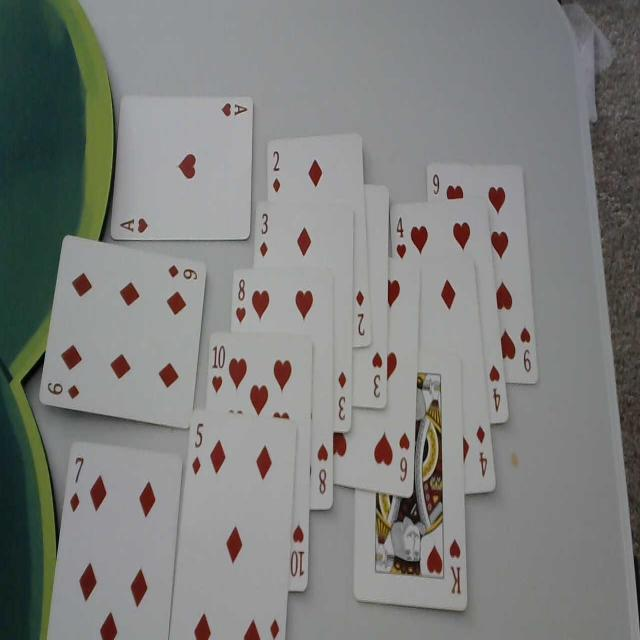10H: (291, 521, 305, 579), (211, 342, 225, 396)
2D: (355, 284, 367, 337), (272, 147, 282, 195)
3D: (337, 368, 347, 421), (259, 212, 269, 257)
3H: (370, 348, 384, 402)
4D: (475, 422, 489, 478)
4H: (488, 363, 502, 414), (396, 213, 408, 260)
5D: (192, 420, 204, 478)
6D: (46, 379, 80, 402), (168, 260, 198, 284)
6H: (398, 426, 409, 482)
7D: (69, 448, 84, 514)
8H: (316, 441, 328, 496), (235, 276, 247, 326)
9H: (520, 324, 533, 376)
AH: (119, 215, 149, 233), (220, 99, 248, 117)
KH: (449, 538, 463, 596)
